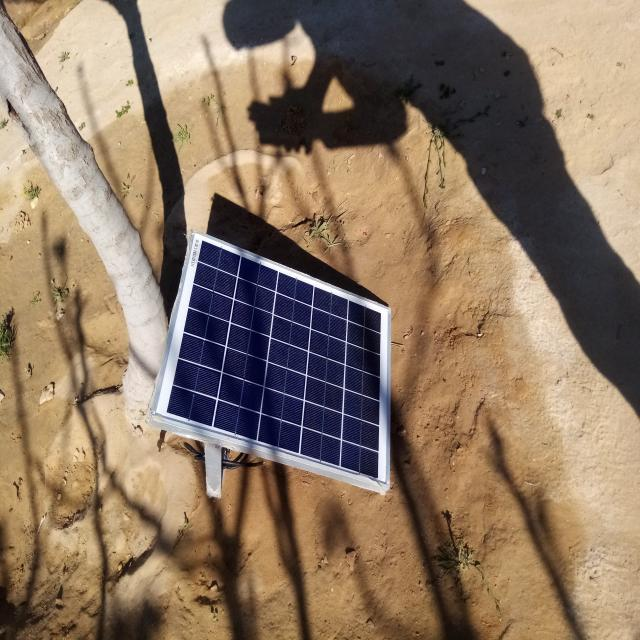no faulty: (150, 230, 391, 489)
